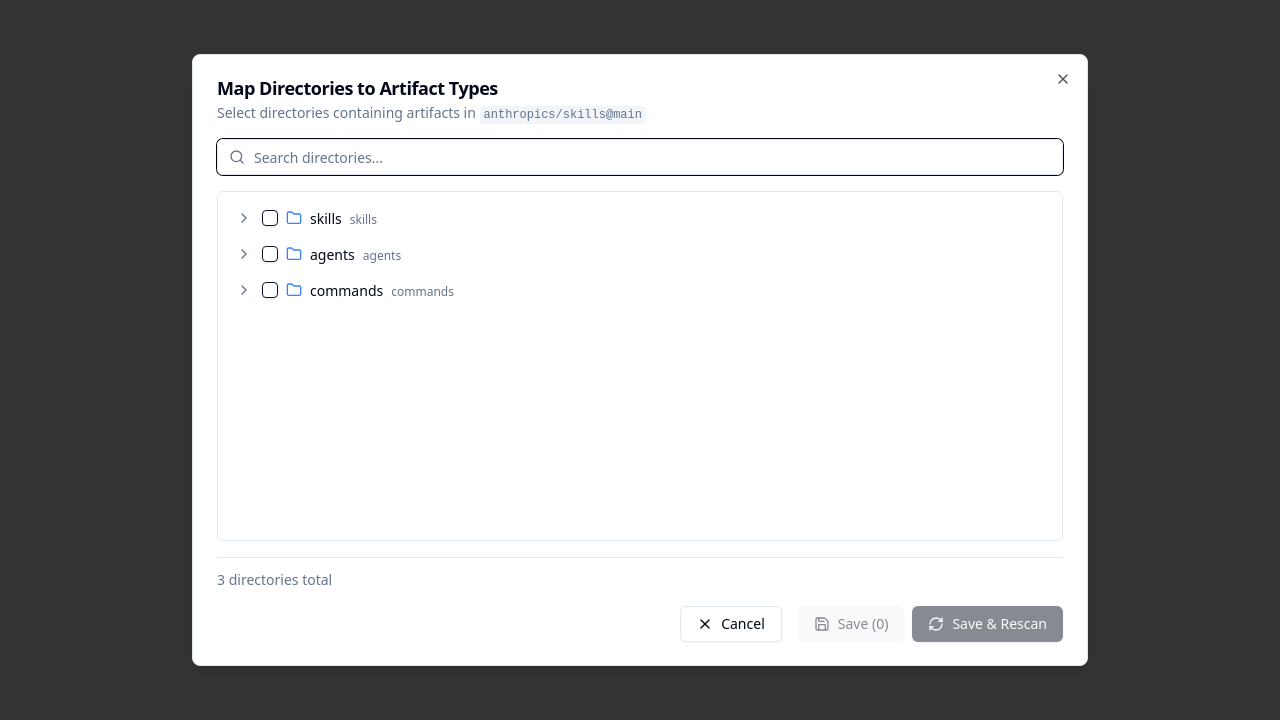
DirectoryMapModal › dirty state tracking › shows confirmation dialog when closing with unsaved changes
Make changes
Click the checkbox named "Select skills directory".
click(270, 218)  # box top-left (262, 210), bottom-right (278, 226)
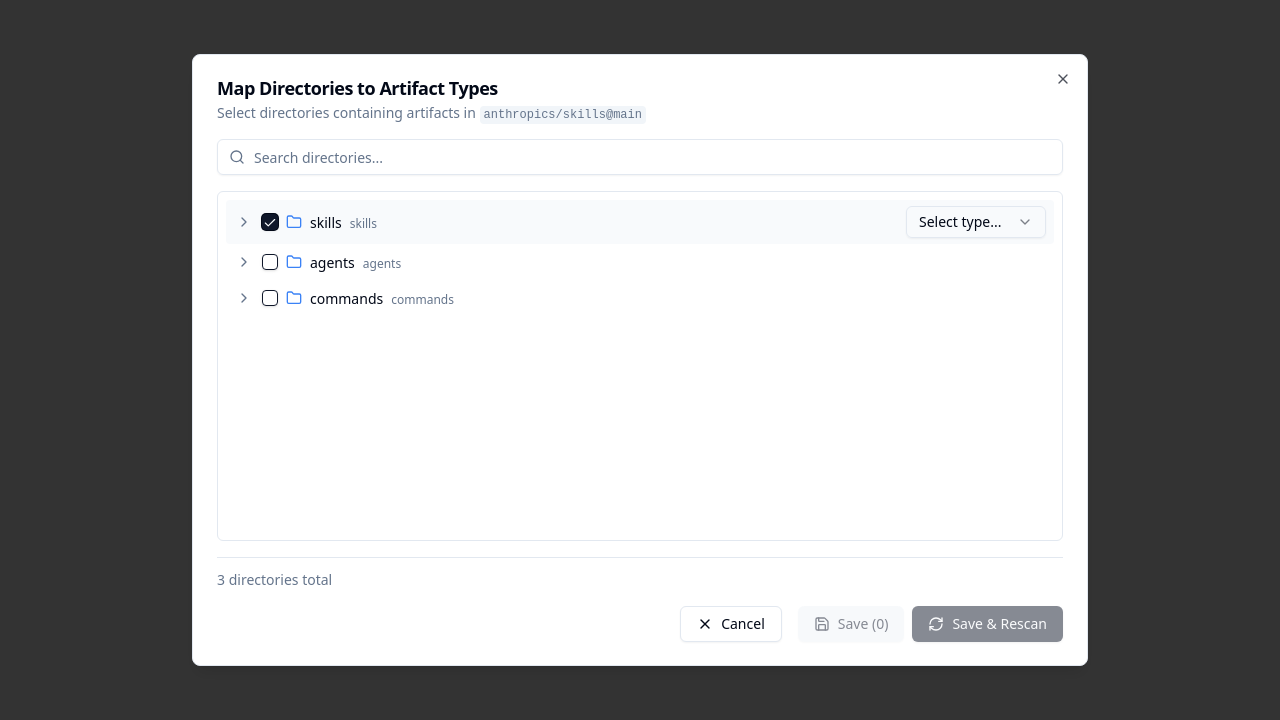
Try to cancel
Click the button "Cancel".
click(731, 624)  # box top-left (680, 606), bottom-right (782, 642)
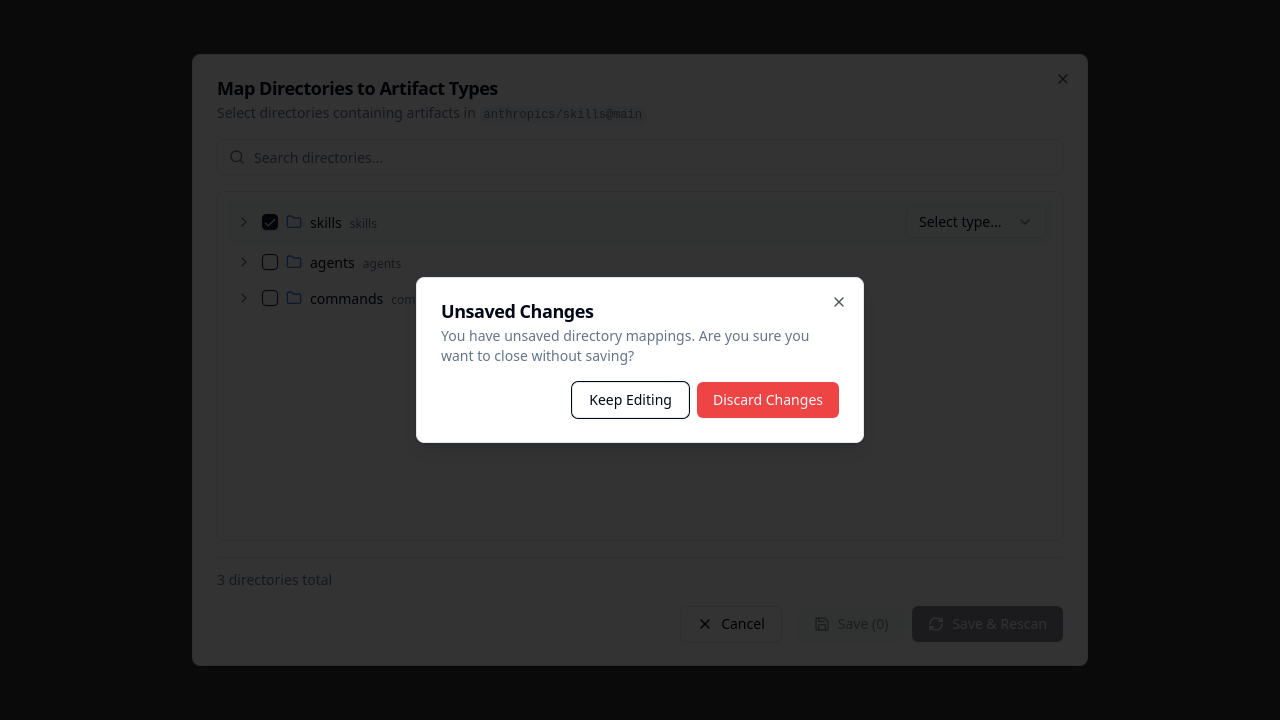
Now the heading "Unsaved Changes" is shown, box top-left (441, 299), bottom-right (593, 323)
Now the text "You have unsaved directory mappings. Are you sure you want to close without saving?" is shown, box top-left (441, 326), bottom-right (809, 365)
